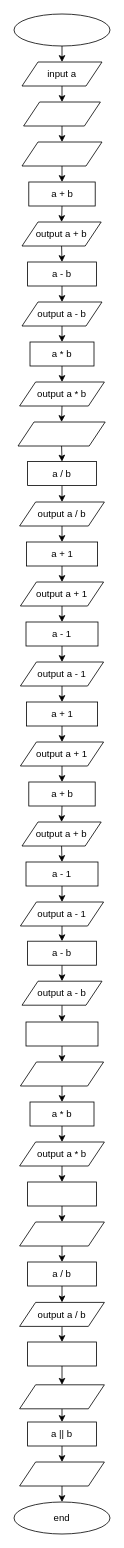
This 124x1548 diagram has some shape labels left out. Here are the shapes that lost their labels. From the top down, the centre of each, then its label:
point (61, 29): start
point (61, 113): input b
point (61, 153): output a b
point (61, 433): output b must greater than 0
point (61, 1033): a * 1
point (62, 1073): output a * 1
point (61, 1193): a / 1
point (61, 1233): output a / 1
point (61, 1353): a && b
point (61, 1396): output a && b
point (61, 1473): output a || b
